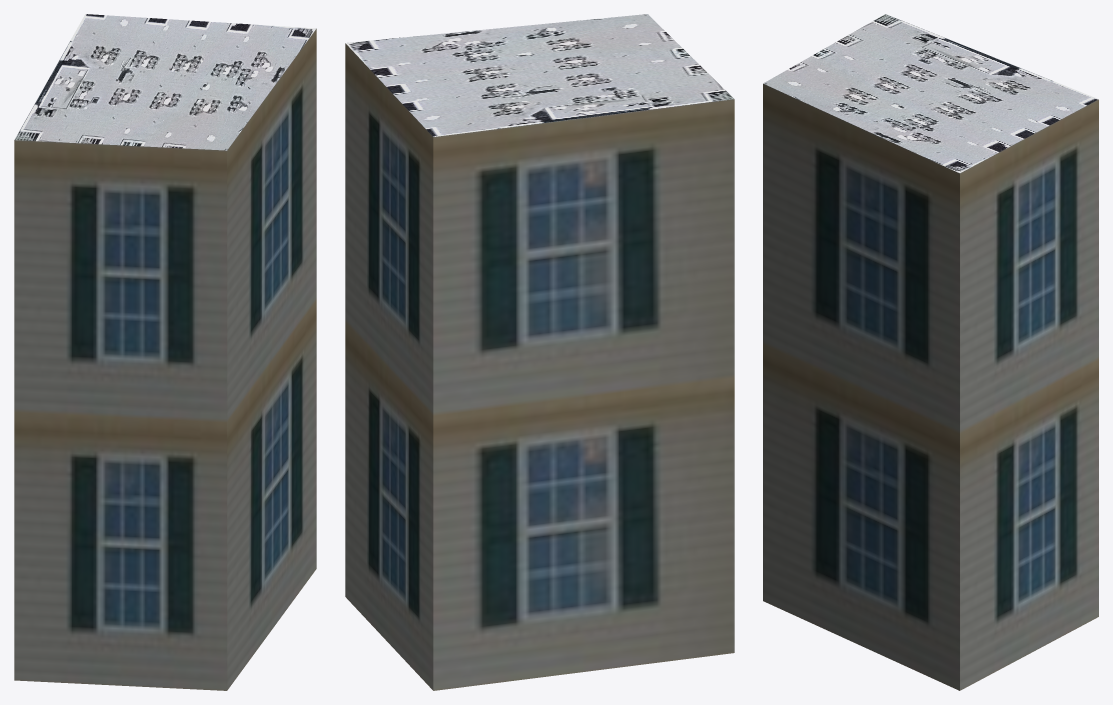
File: ResTex__3335.fbx
3 views of the same model, side by side, from view 1: azimuth 30°, elevation 25°; view 2: azimuth 150°, elevation 25°; view 3: azimuth 270°, elevation 25° (orthographic). The views are drawn at different scales.
Visible parts, largest first — view 1: CityEngineMaterial_7_m, CityEngineMaterial_2_m; view 2: CityEngineMaterial_7_m, CityEngineMaterial_2_m; view 3: CityEngineMaterial_7_m, CityEngineMaterial_2_m.
Boxes of the visible parts, box(x1,y1,x2,y2) form: CityEngineMaterial_7_m: box(14, 29, 316, 690); CityEngineMaterial_2_m: box(14, 14, 316, 150); CityEngineMaterial_7_m: box(345, 43, 734, 690); CityEngineMaterial_2_m: box(345, 14, 734, 136); CityEngineMaterial_7_m: box(763, 83, 1098, 690); CityEngineMaterial_2_m: box(763, 14, 1098, 173).
Size of the model in its own units: 3.96 by 6 by 3.53.
2 materials, 2 textured.
